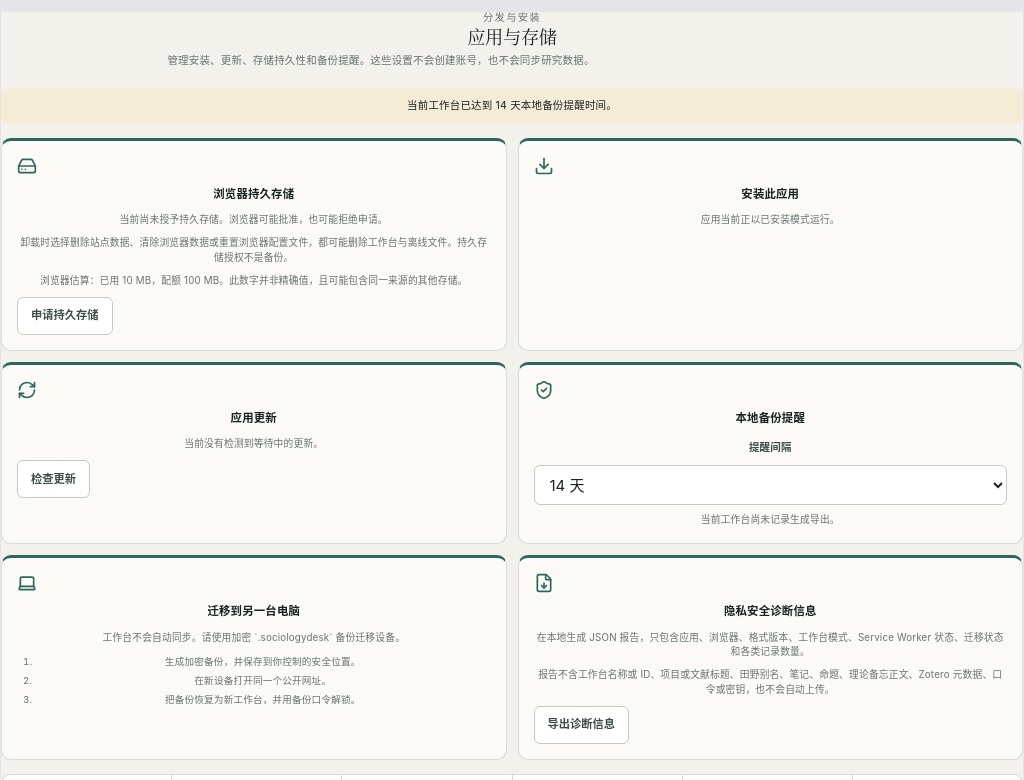
Test: DistributionCenter › keeps diagnostics local, verifies pending writes, and exposes bilingual privacy boundaries
The image size is (1024, 780).
Expected: the text "报告不含工作台名称或 ID" is shown, [538,669,1002,695]
Click the button "导出诊断信息". click: (581, 725)
box: [534,706,629,744]
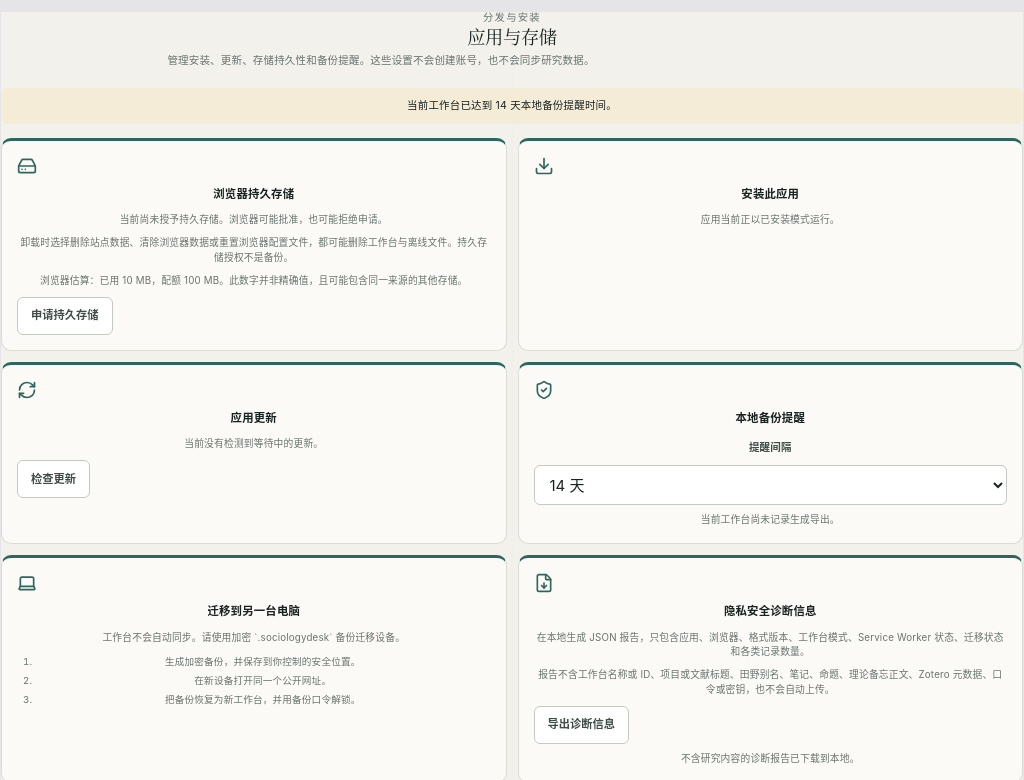
Result: the text "不含研究内容的诊断报告已下载到本地。" is shown at [681,753,860,764]
